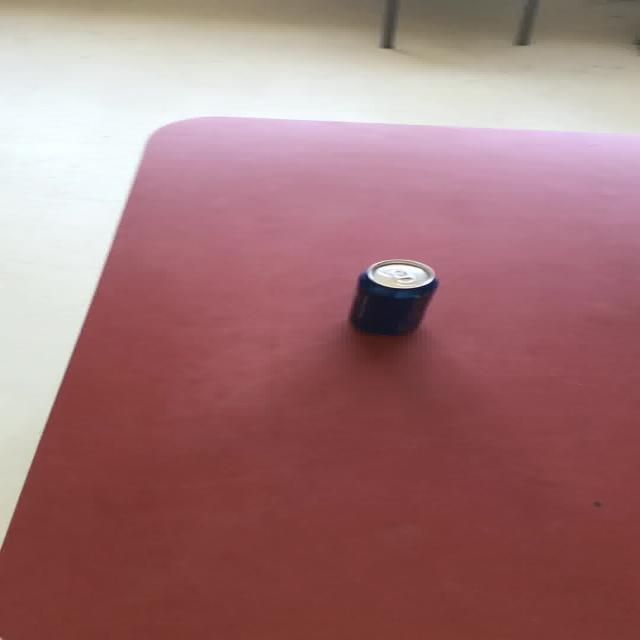tonic: (348, 258, 438, 336)
